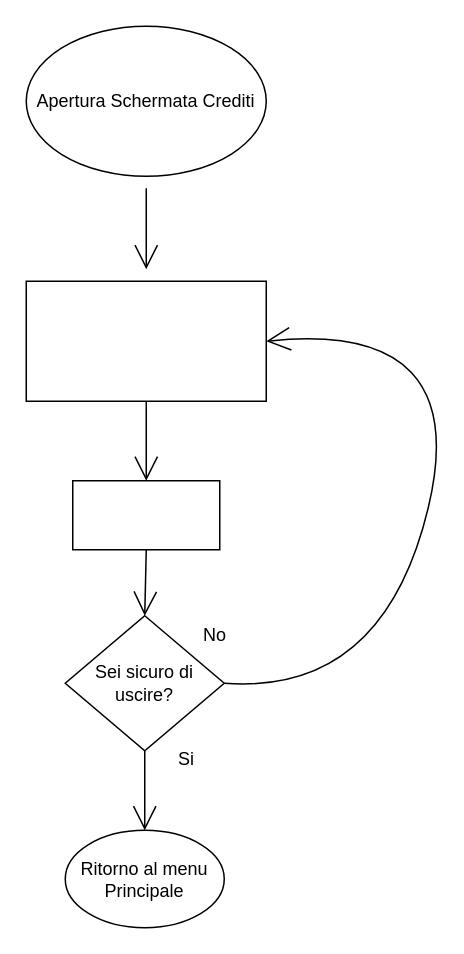
This 464x954 diagram has some shape labels left out. Each missing label, with the centre of its shape:
"Torna indietro" goes at pixel 145 514.
"Visualizza crediti" goes at pixel 145 340.
